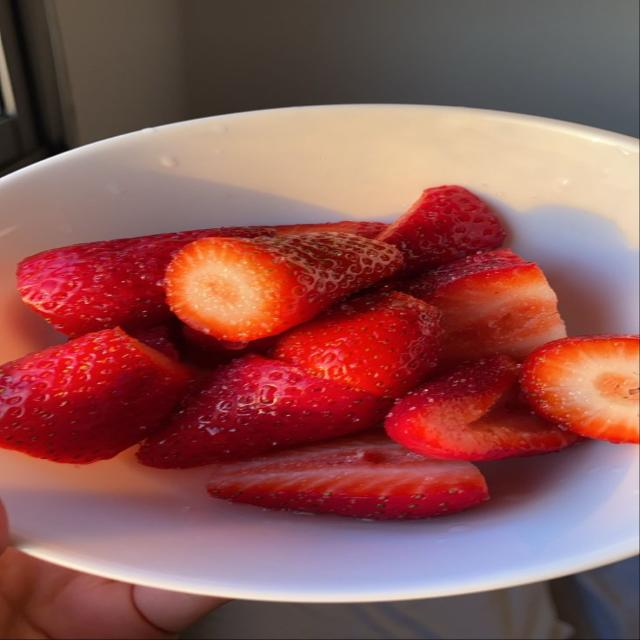strawberry sliced: (138, 355, 391, 468), (18, 227, 275, 336), (166, 233, 402, 341), (0, 329, 190, 463), (208, 432, 488, 519), (386, 356, 580, 460), (403, 250, 566, 365), (271, 293, 441, 397), (521, 335, 639, 443), (379, 186, 505, 273), (181, 325, 276, 368), (273, 221, 388, 238), (128, 324, 179, 360)
